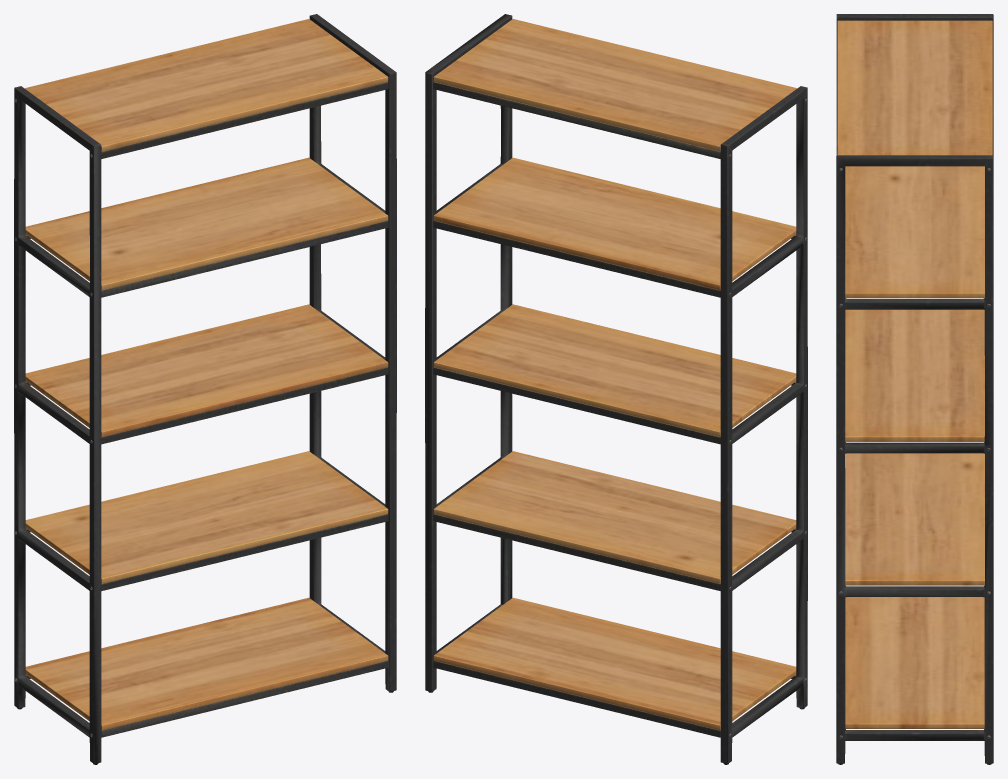
File: shelves.glb
The picture shows the model from 3 angles, left to right: view 1: azimuth 30°, elevation 25°; view 2: azimuth 150°, elevation 25°; view 3: azimuth 270°, elevation 25°; orthographic projection. The views are drawn at different scales.
Visible parts, largest first — view 1: shelves; view 2: shelves; view 3: shelves.
Part boxes in pixels (x1=…): shelves: x1=14, y1=14, x2=396, y2=764; shelves: x1=425, y1=14, x2=807, y2=764; shelves: x1=836, y1=14, x2=993, y2=764.
Size of the model in its own units: 1.1 by 2.14 by 0.502.
Materials: 1 (1 with a texture image).
